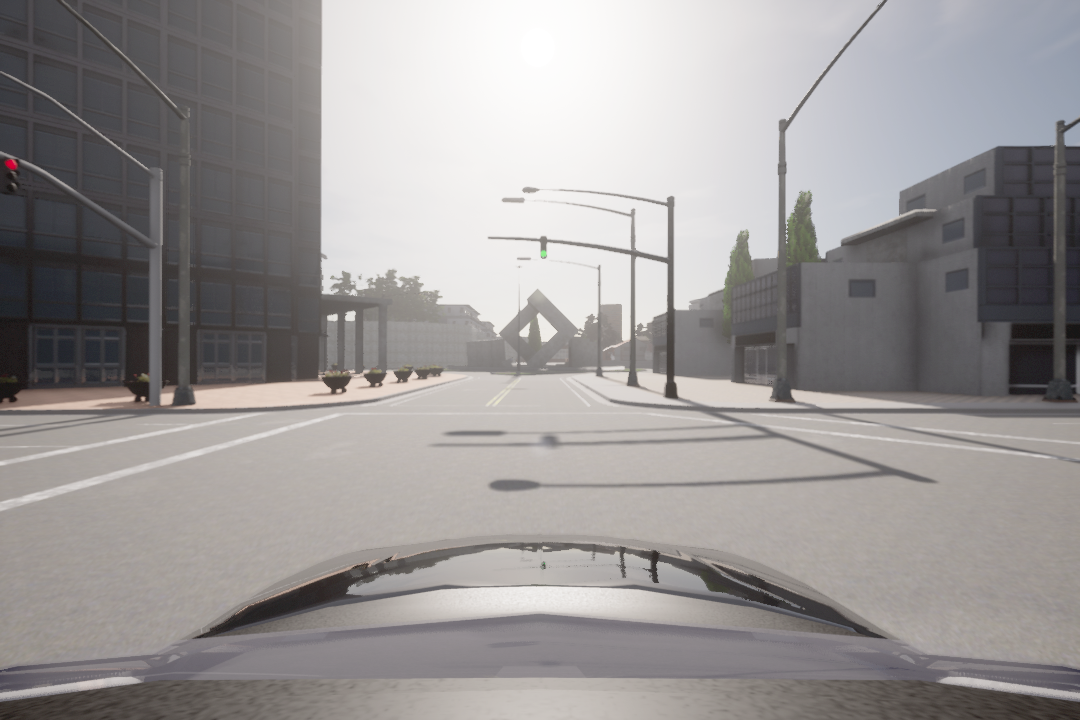TrafficLight: (1, 149, 23, 204), (536, 235, 548, 261)
